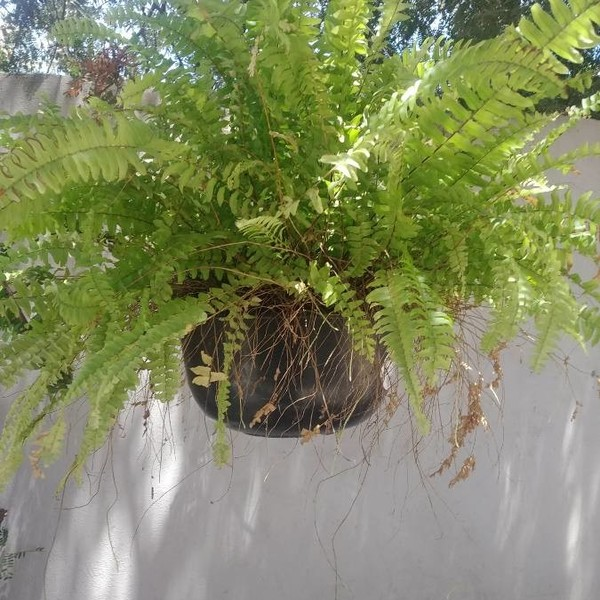obstacle: (92, 56, 493, 530)
